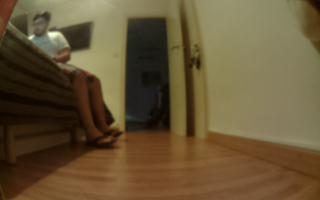person: (29, 6, 127, 155)
